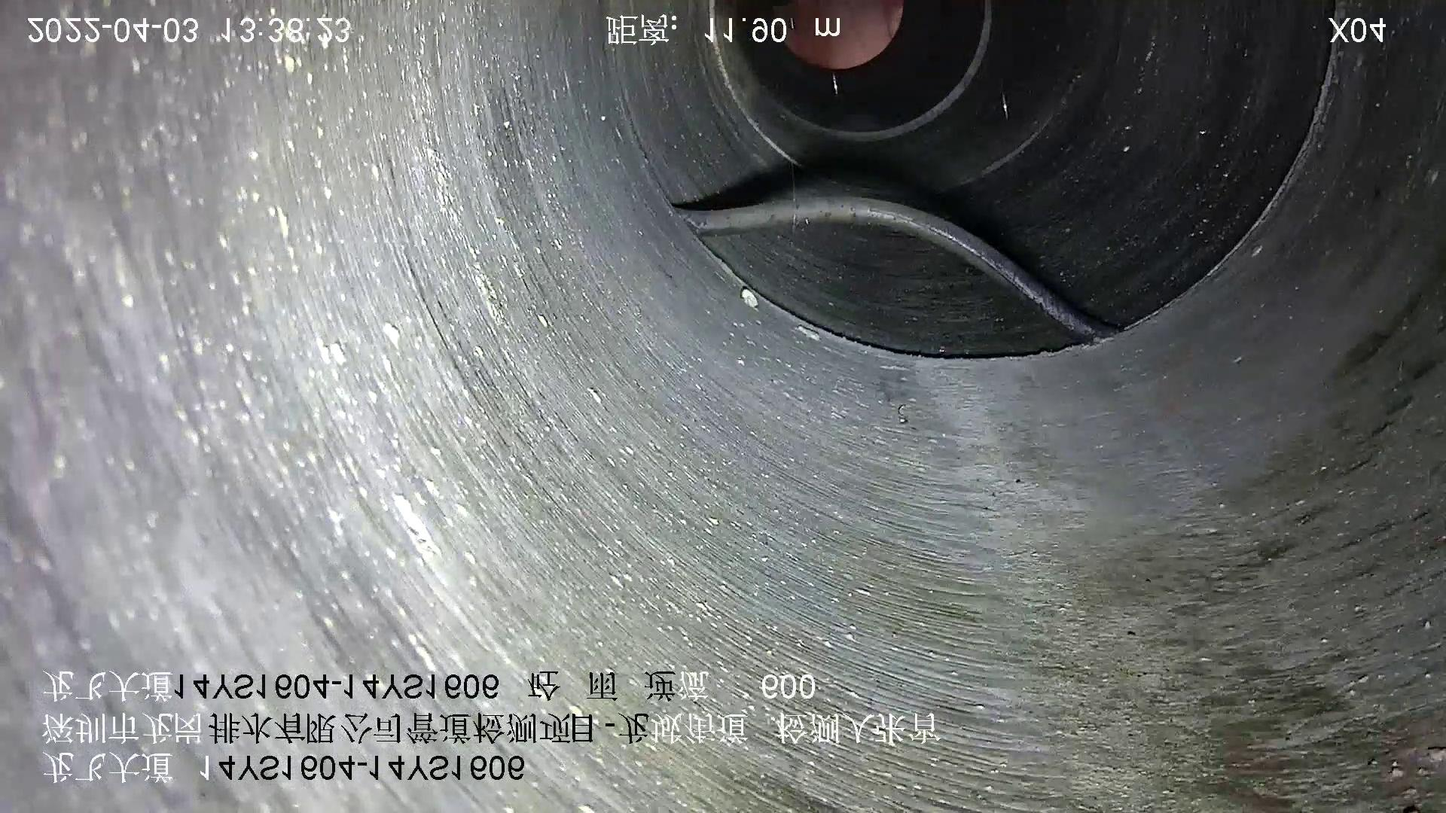YWCR: (679, 191, 1116, 336)
